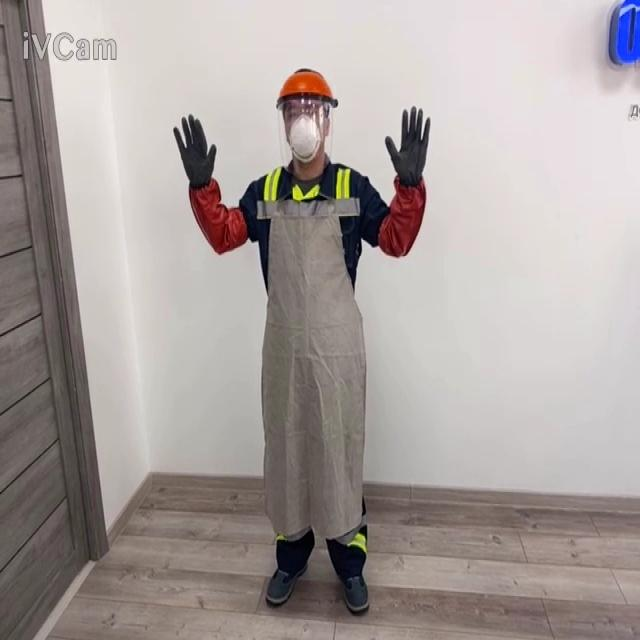Gloves: (384, 105, 430, 187), (172, 114, 216, 190)
Mask: (286, 110, 321, 162)
Protective apron: (258, 168, 367, 541)
Safety Shoes: (264, 560, 307, 604), (341, 572, 369, 612)
Sleeve: (187, 176, 248, 255), (377, 174, 426, 258)
